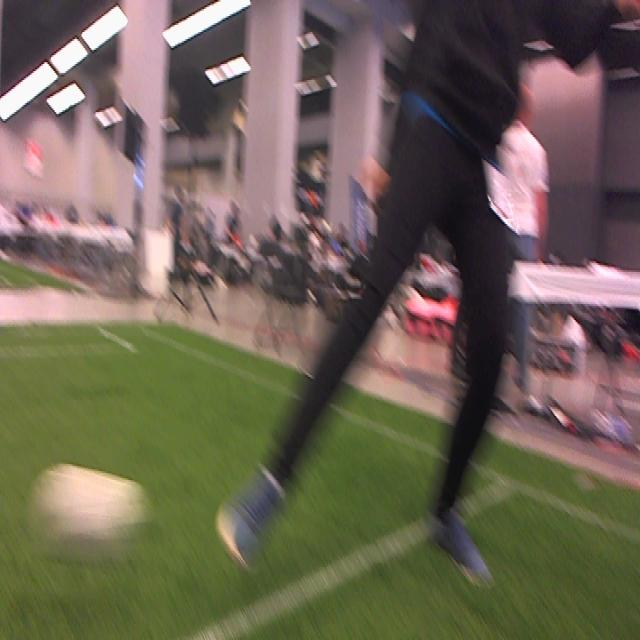ball: (36, 454, 148, 556)
